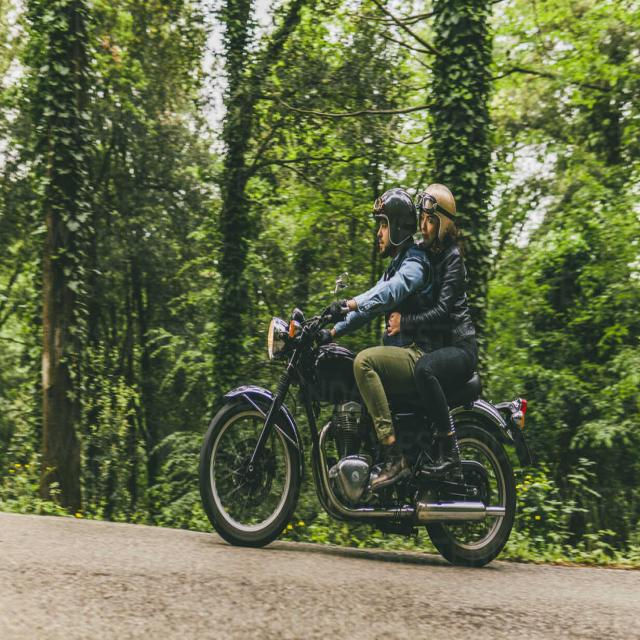Bike: (198, 322, 519, 568)
